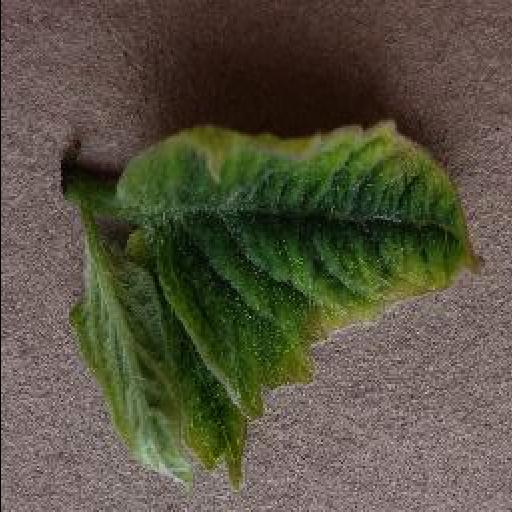disease_tomato: (61, 114, 491, 494)
